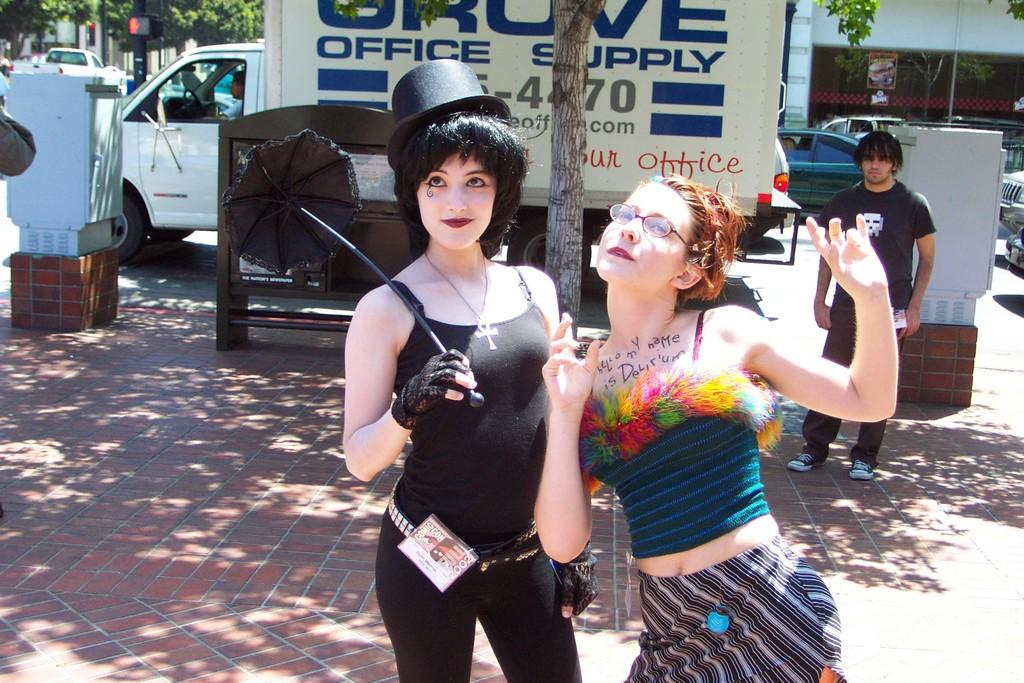Hat: (386, 56, 508, 169)
